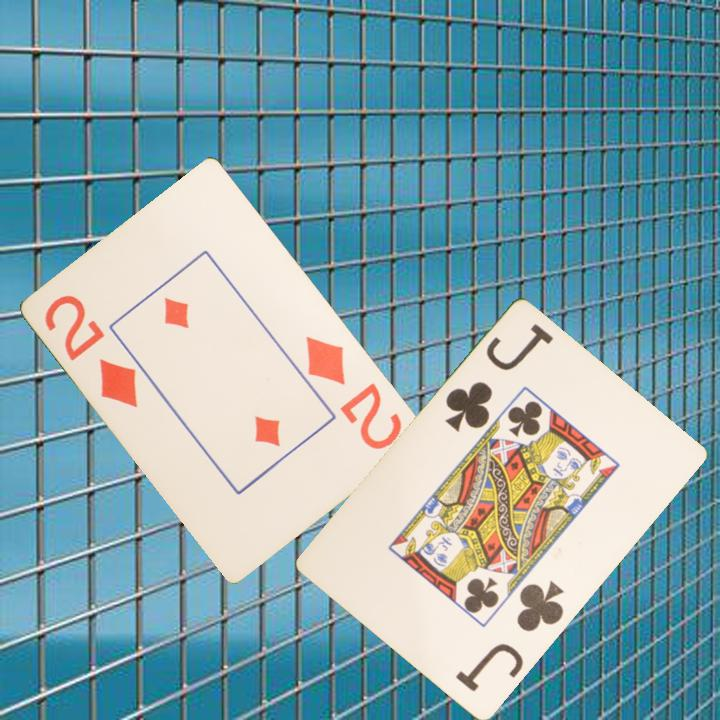2d: (302, 332, 406, 453), (41, 291, 142, 411)
Jc: (452, 578, 567, 696), (441, 320, 557, 436)
